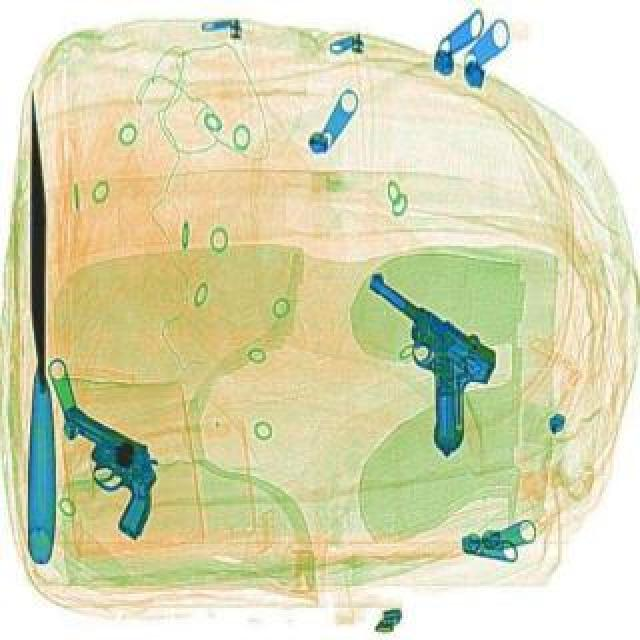gun: (302, 268, 518, 452), (22, 394, 188, 538)
knife: (20, 84, 54, 560)
